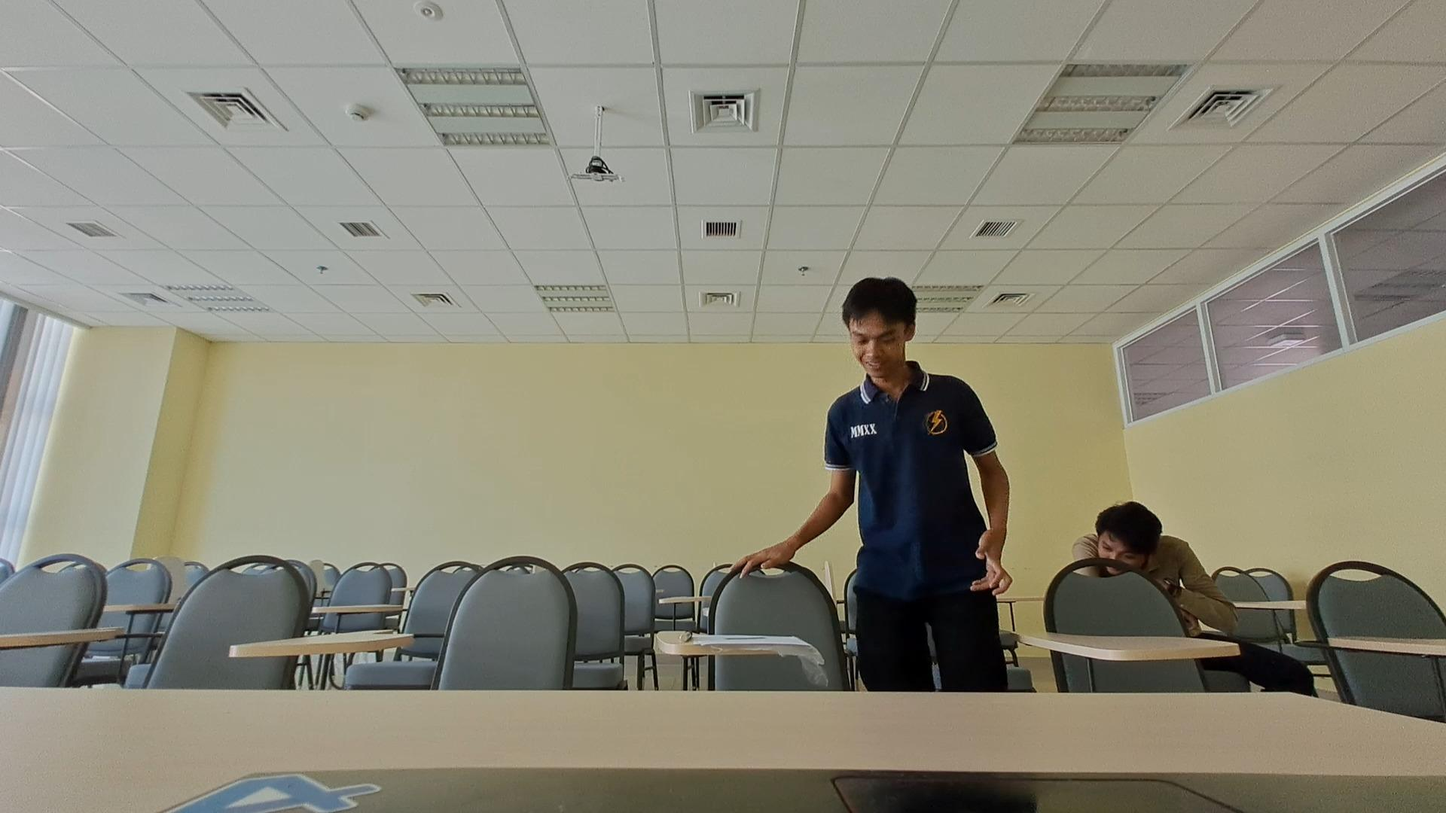sleep: (1056, 501, 1246, 630)
